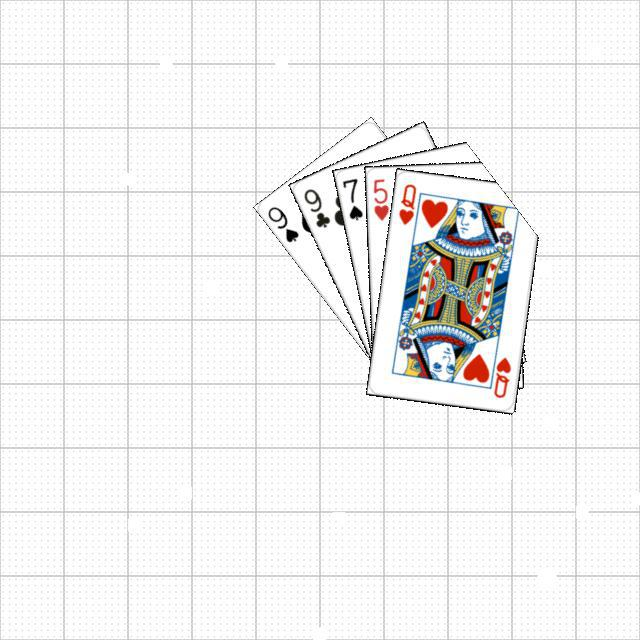5h: (368, 174, 390, 222)
7s: (337, 173, 364, 222)
9c: (299, 184, 332, 229)
9s: (263, 201, 300, 244)
Qh: (485, 346, 513, 399), (394, 179, 418, 226)
